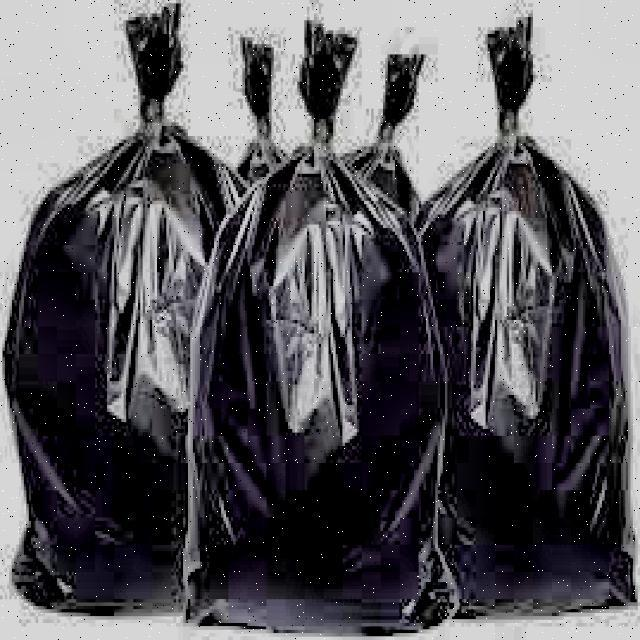Trashbag: (427, 99, 628, 625), (211, 191, 423, 627), (0, 150, 201, 591)
